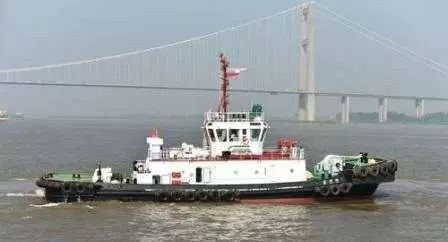otherboat: (40, 58, 400, 204)
